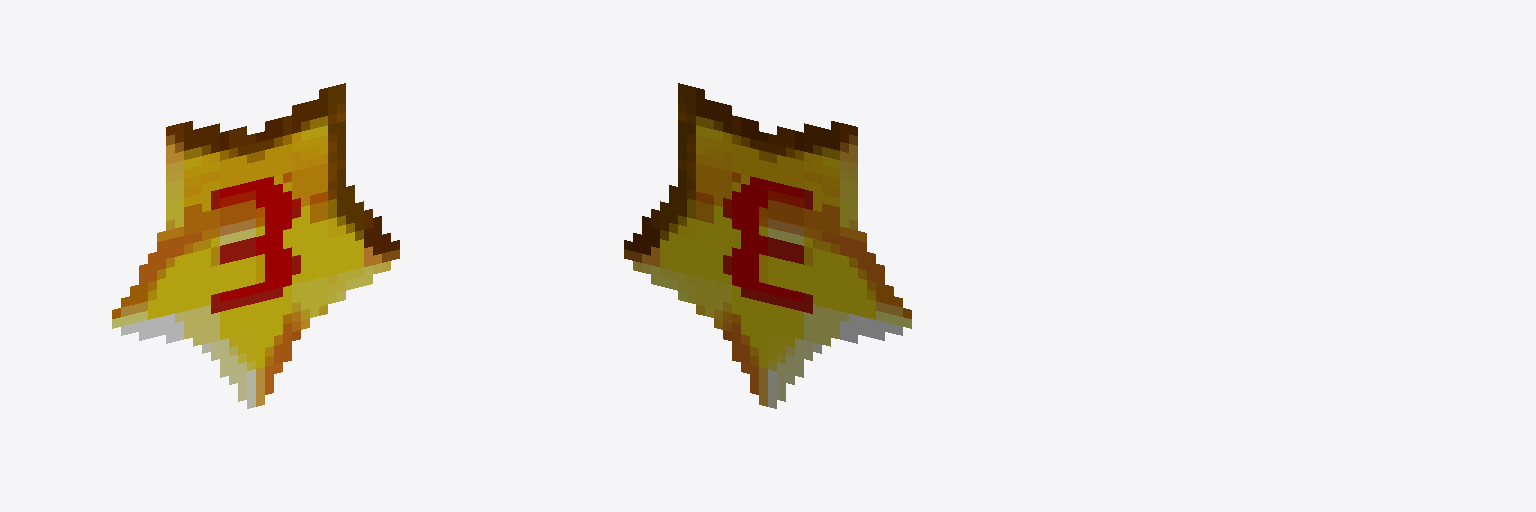
3 renders of one model, left to right at view 1: azimuth 30°, elevation 25°; view 2: azimuth 150°, elevation 25°; view 3: azimuth 270°, elevation 25°, orthographic.
Parts seen in each view (by area): view 1: world_root; view 2: world_root; view 3: none.
Part boxes in pixels (x1,y1,x2,y2): world_root: (112, 83, 399, 408); world_root: (624, 83, 911, 408).
Bounding box in the file's own units: 13.75 × 13.75 × 0.
Materials: 1 (1 with a texture image).